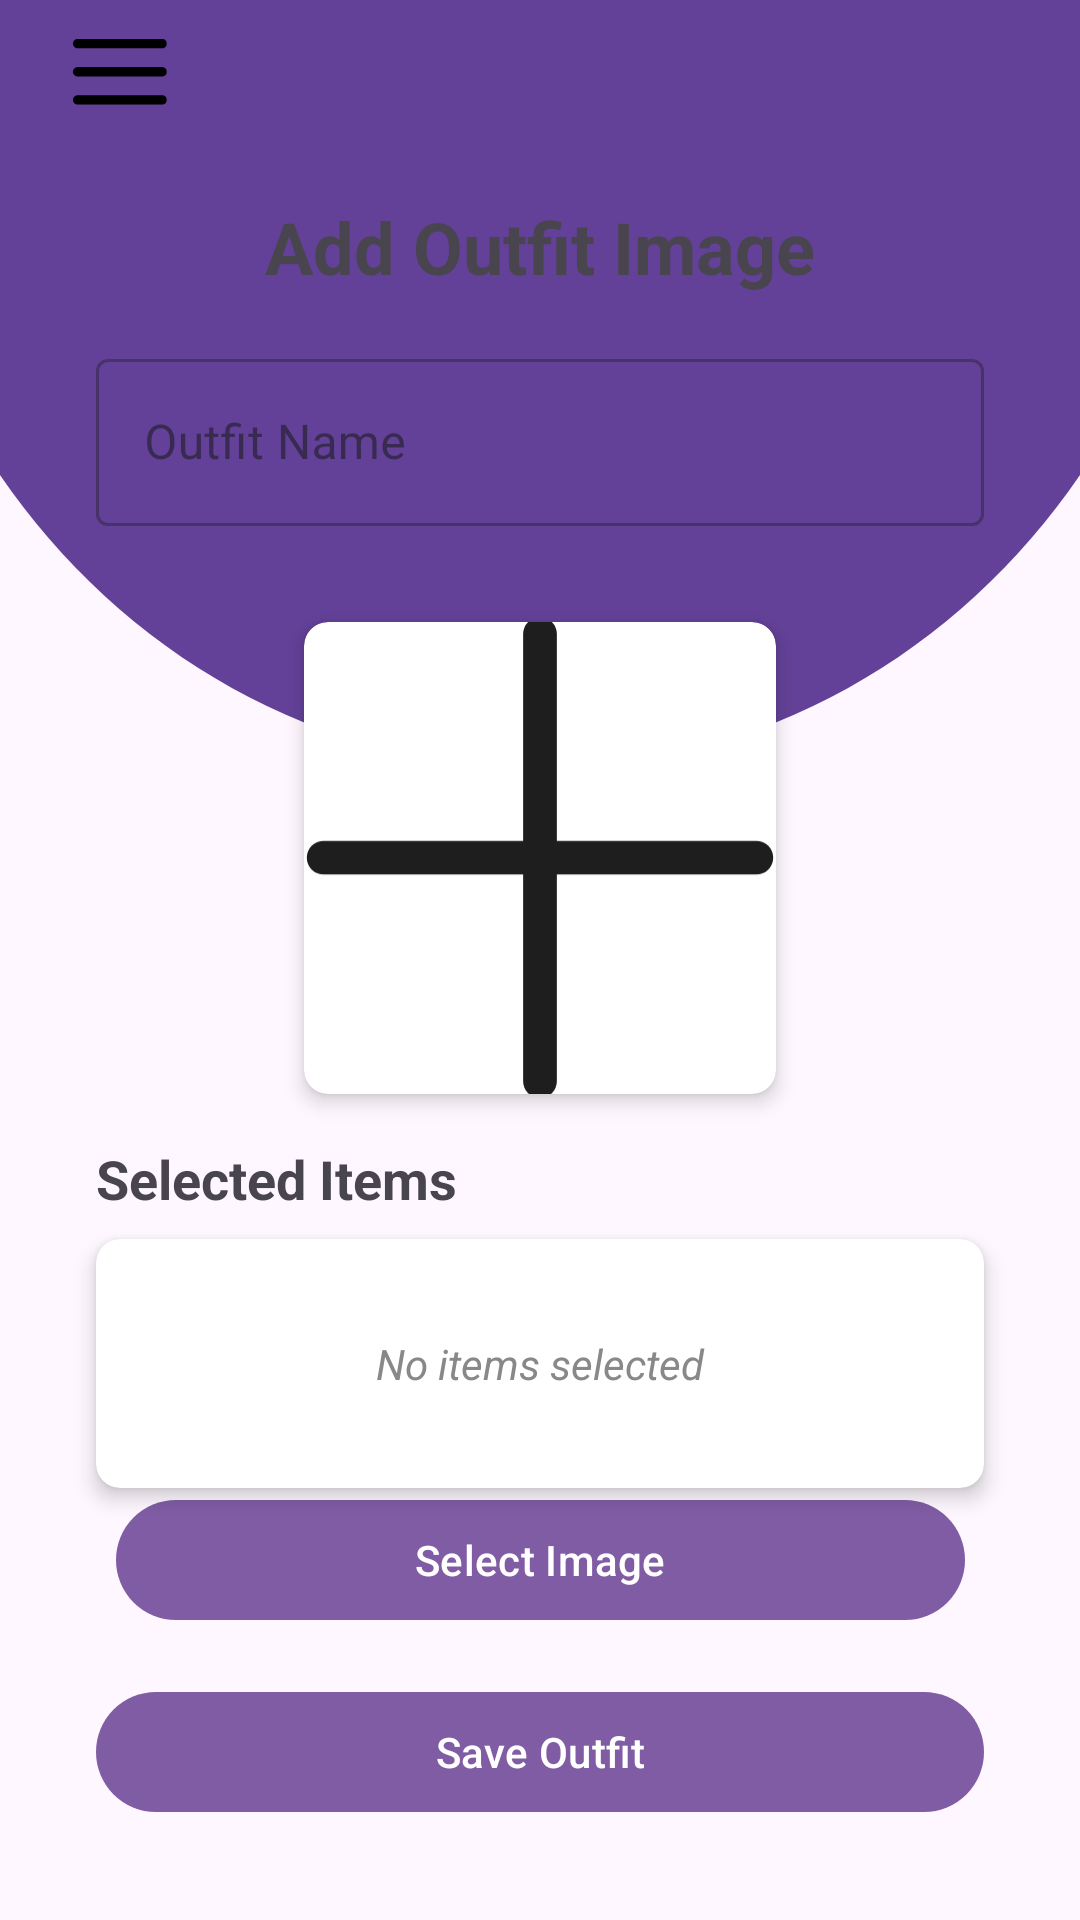

Icons on this 1080 × 1920 Android screen, each with the point to tap as (x,y):
menu: (120,72)
